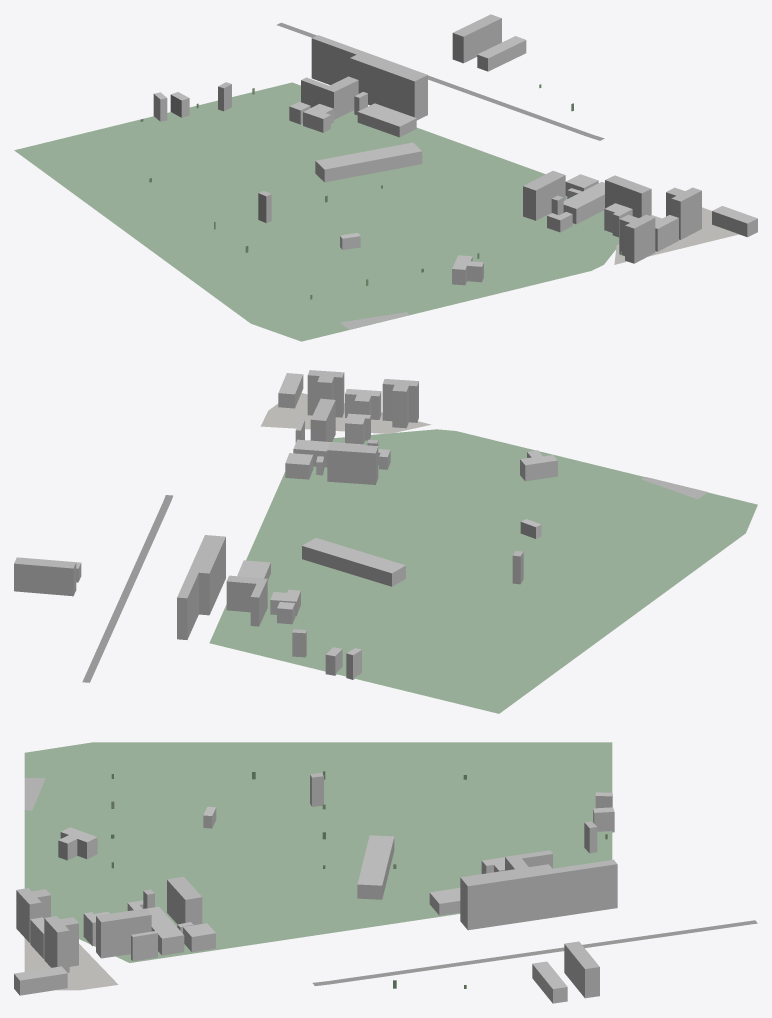
3 views of the same model, one above another, from view 1: azimuth 30°, elevation 25°; view 2: azimuth 150°, elevation 25°; view 3: azimuth 270°, elevation 25° (orthographic). The views are drawn at different scales.
Bounding box in the file's own units: 523 × 42.38 × 633.
